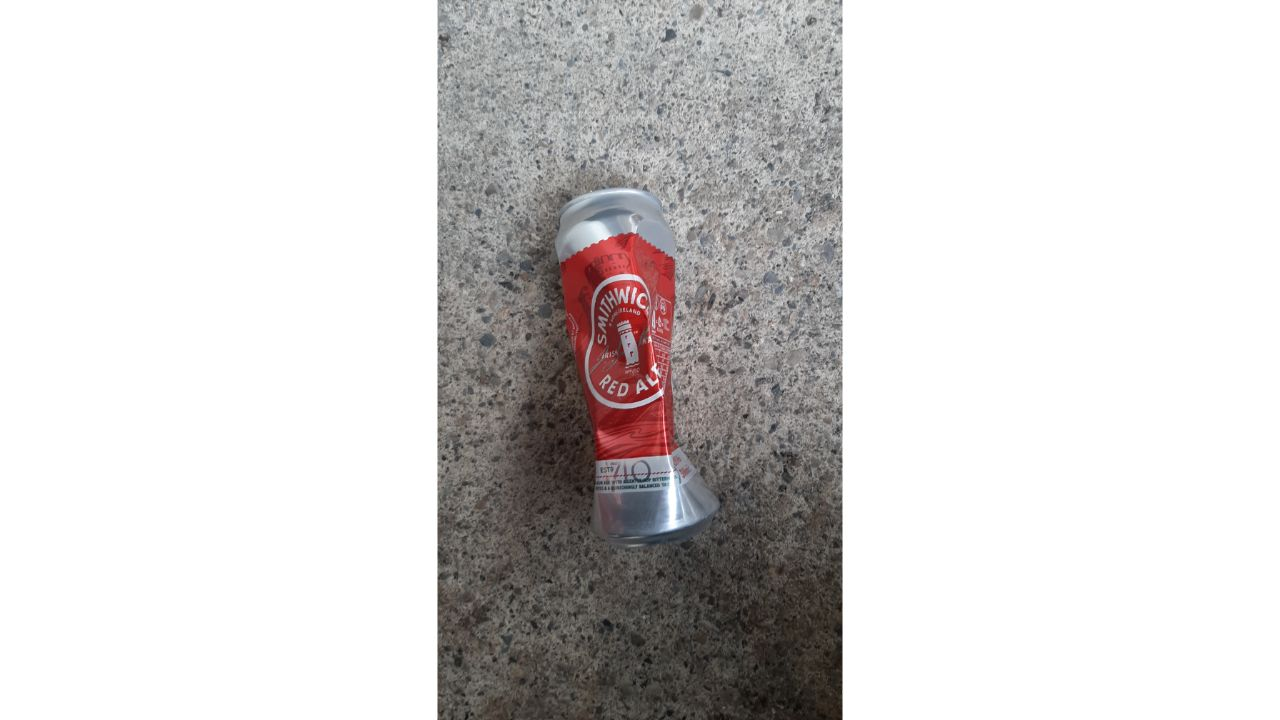Can: (553, 188, 722, 545)
